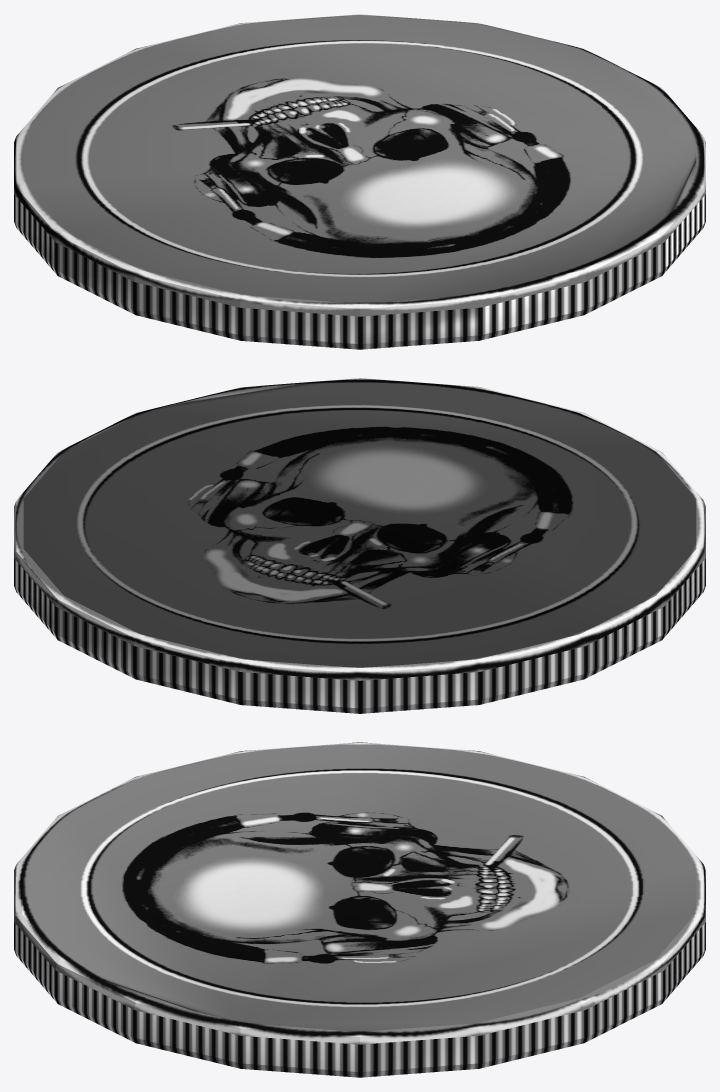
Rendered from Coin.FBX.
3 renders of one model, top to bottom at view 1: azimuth 30°, elevation 25°; view 2: azimuth 150°, elevation 25°; view 3: azimuth 270°, elevation 25°, orthographic.
Visible parts, largest first — view 1: Cylinder001; view 2: Cylinder001; view 3: Cylinder001.
Part boxes in pixels (box(x1,y1,x2,y2)): Cylinder001: box(14, 14, 705, 349); Cylinder001: box(14, 378, 705, 713); Cylinder001: box(14, 742, 705, 1077).
Bounding box in the file's own units: 19.5 × 1.37 × 19.2.
